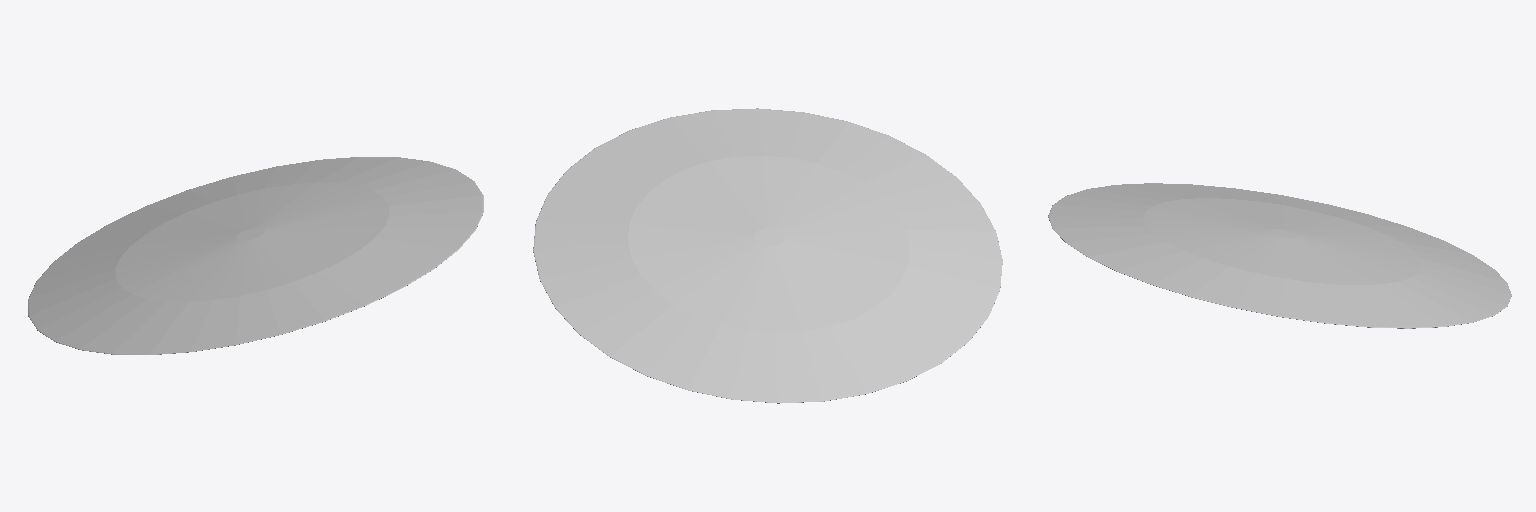
Rendered from ufo.obj.
3 views of the same model, side by side, from view 1: azimuth 30°, elevation 25°; view 2: azimuth 150°, elevation 25°; view 3: azimuth 270°, elevation 25° (orthographic).
Parts seen in each view (by area): view 1: Circle.001; view 2: Circle.001; view 3: Circle.001.
Boxes of the visible parts, box(x1,y1,x2,y2) form: Circle.001: box(28, 157, 483, 354); Circle.001: box(533, 108, 1002, 403); Circle.001: box(1048, 183, 1511, 328).
Size of the model in its own units: 0.5486 by 0.1364 by 0.5486.